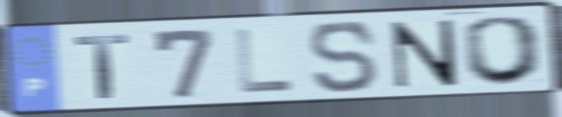7: (149, 28, 216, 101)
L: (233, 26, 297, 96)
N: (389, 17, 460, 91)
O: (461, 13, 548, 87)
S: (306, 19, 382, 96)
T: (71, 32, 133, 101)
